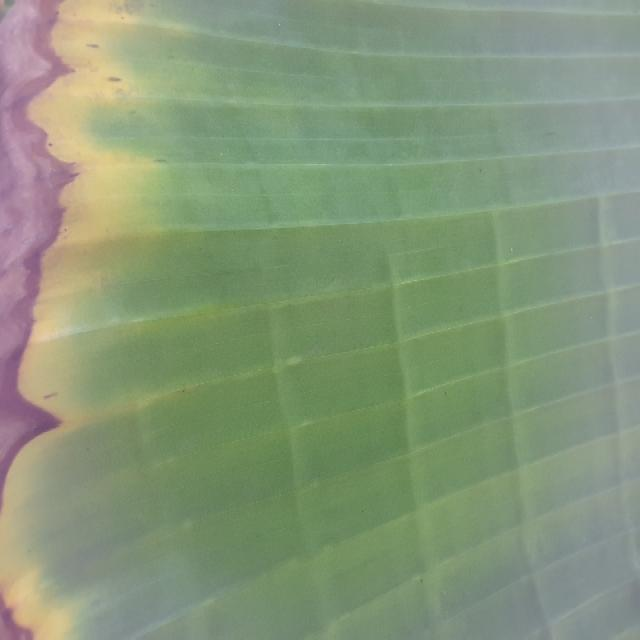Cordana: (3, 0, 187, 639)
